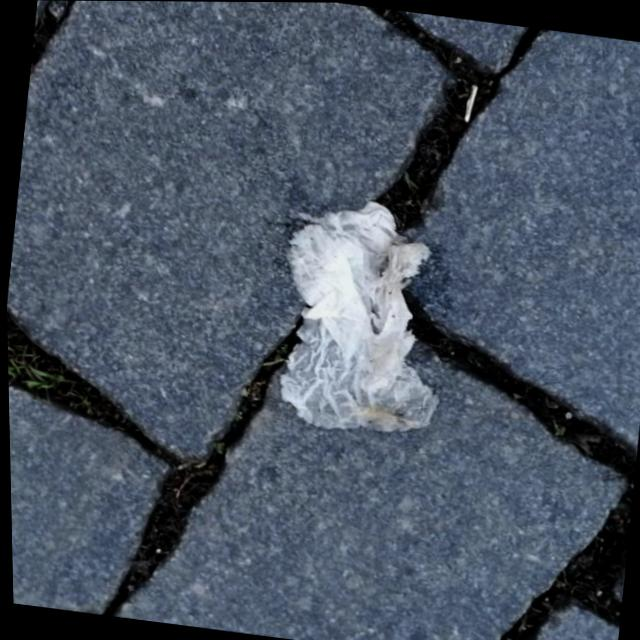Paper: (261, 186, 464, 446)
